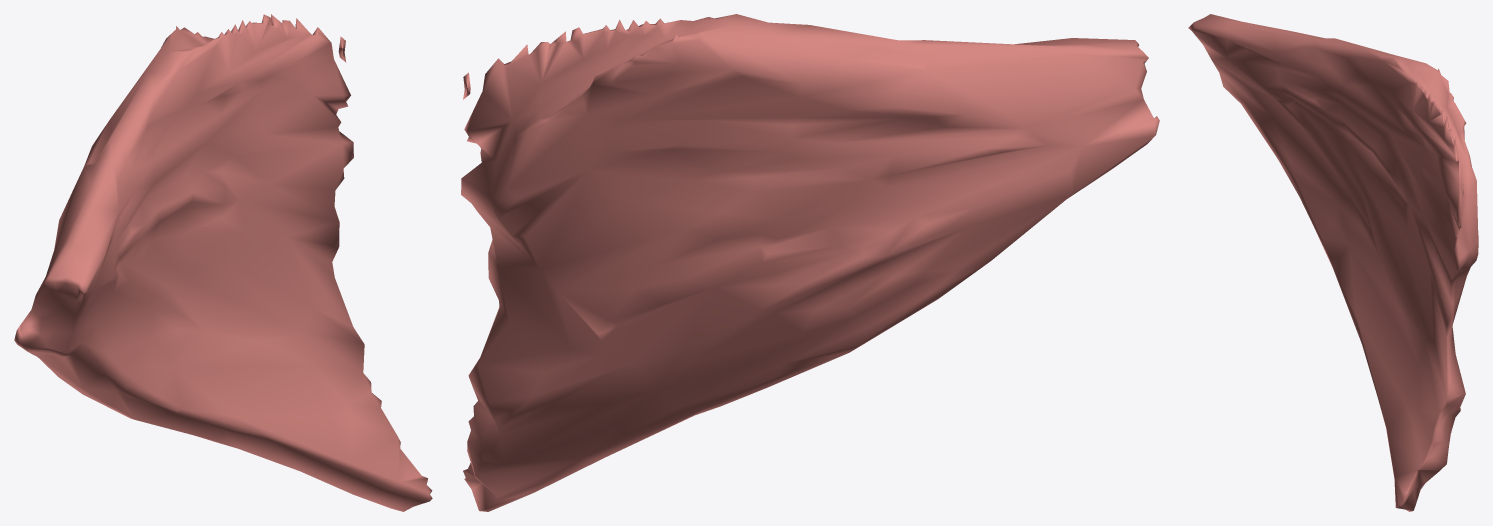
The picture shows the model from 3 angles, left to right: view 1: azimuth 30°, elevation 25°; view 2: azimuth 150°, elevation 25°; view 3: azimuth 270°, elevation 25°; orthographic projection. The views are drawn at different scales.
Visible parts, largest first — view 1: ZA_d2c13101f093681f; view 2: ZA_d2c13101f093681f; view 3: ZA_d2c13101f093681f.
Part boxes in pixels (box(x1,y1,x2,y2)): ZA_d2c13101f093681f: box(14, 14, 432, 511); ZA_d2c13101f093681f: box(461, 14, 1159, 511); ZA_d2c13101f093681f: box(1188, 14, 1478, 511).
Bounding box in the file's own units: 0.0443 × 0.041 × 0.0289.
